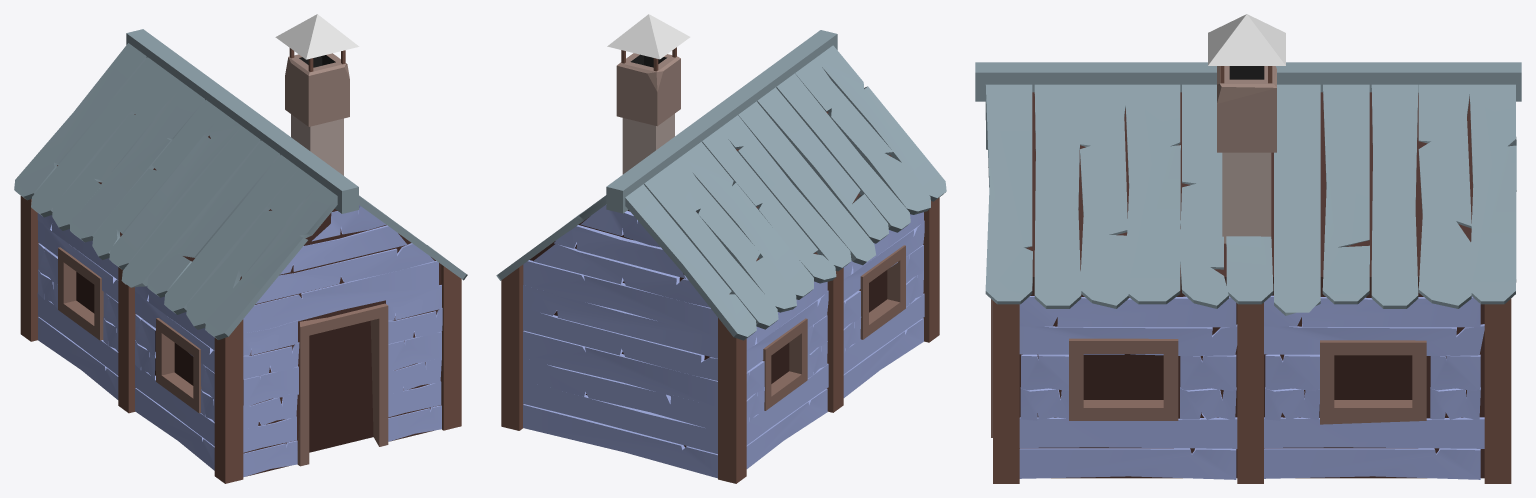
Rendered from Building_031.glb.
3 views of the same model, side by side, from view 1: azimuth 30°, elevation 25°; view 2: azimuth 150°, elevation 25°; view 3: azimuth 270°, elevation 25° (orthographic). The views are drawn at different scales.
Parts seen in each view (by area): view 1: Building_031; view 2: Building_031; view 3: Building_031.
Boxes of the visible parts, x1,y1,x2,y2 form: Building_031: (14, 14, 467, 483); Building_031: (496, 14, 946, 483); Building_031: (975, 14, 1521, 483).
Size of the model in its own units: 7.85 by 9.87 by 11.04.
Materials: 1 (1 with a texture image).
